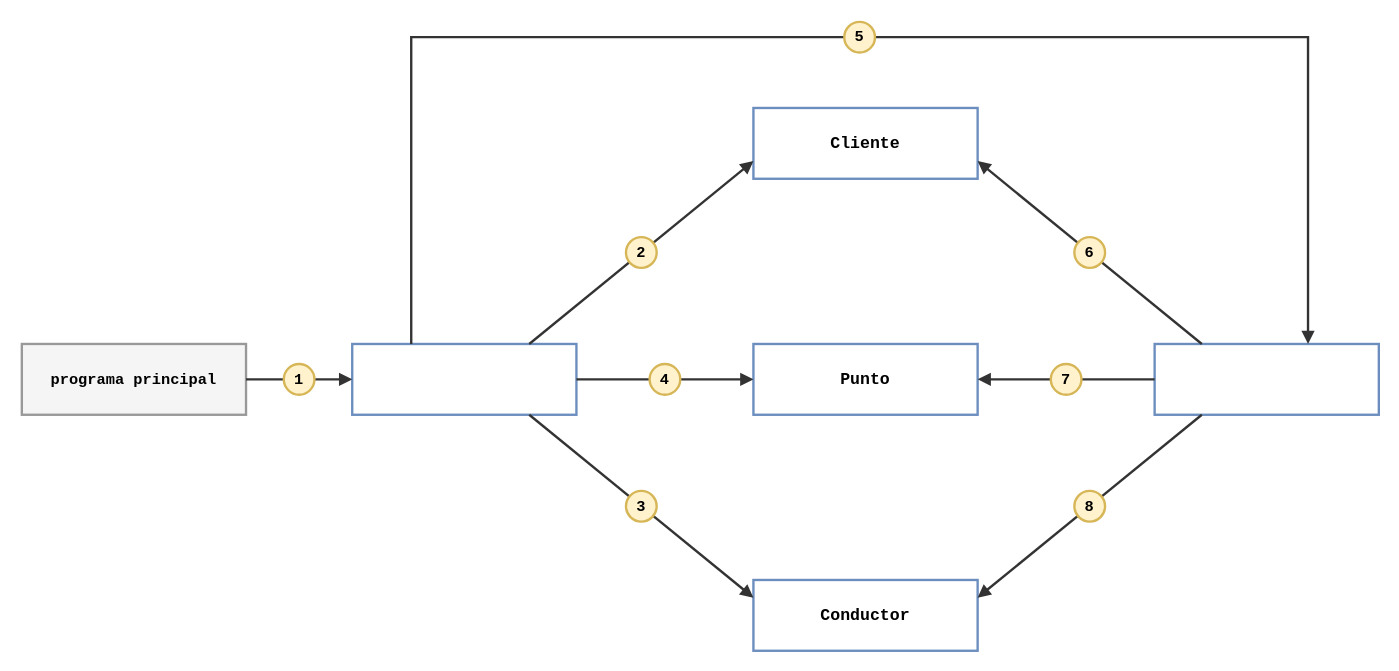
Some shapes in this 1399 by 671 pixel diagram are drawn without their labels. Each missing label, with the centre of its shape:
"Plataforma" goes at [463,378].
"Viaje" goes at [1266,378].
